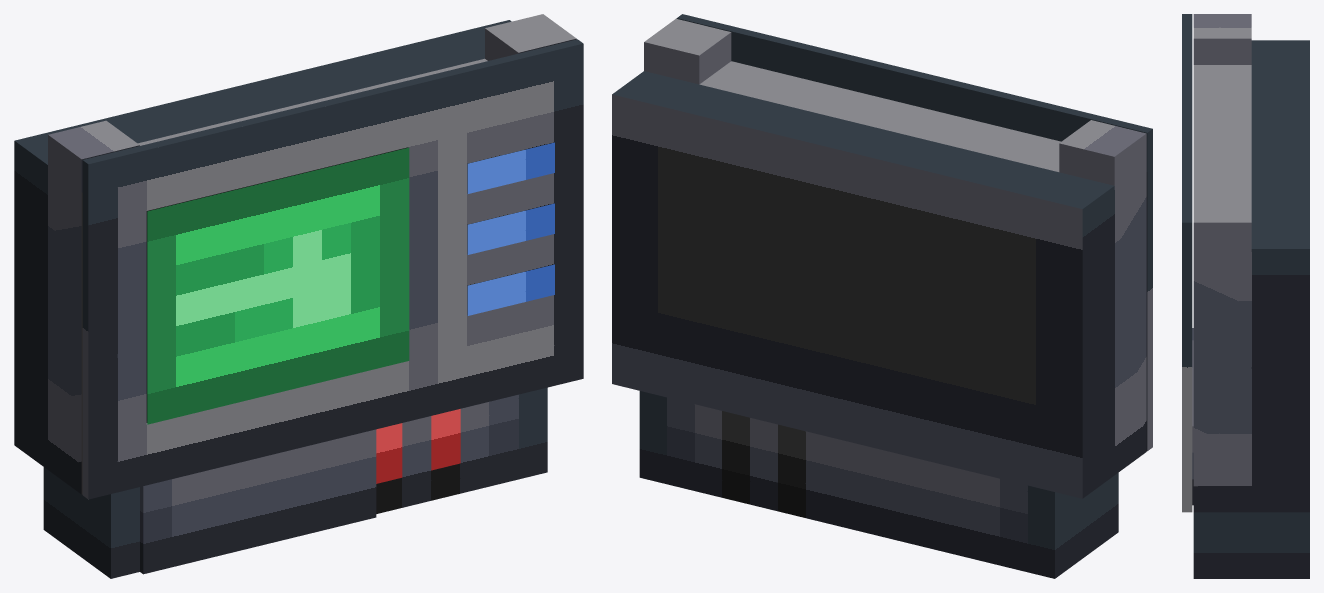
The model's file is apc_charged.glb.
3 views of the same model, side by side, from view 1: azimuth 30°, elevation 25°; view 2: azimuth 150°, elevation 25°; view 3: azimuth 270°, elevation 25° (orthographic). The views are drawn at different scales.
Parts seen in each view (by area): view 1: Main_Cover, Charge_Overlay, Lined_Enclosure, Wiring_Cover, Lower_Control_Housing, Lock_Overlay, Environment_Overlay, Equipment_Overlay, Lighting_Overlay, Display_Glass; view 2: Lined_Enclosure, Lower_Control_Housing, Main_Cover; view 3: Lined_Enclosure, Lower_Control_Housing, Main_Cover, Wiring_Cover.
Part boxes in pixels (left/top/right/bottom): Main_Cover: left=82, top=39, right=583, bottom=499; Charge_Overlay: left=147, top=147, right=409, bottom=424; Lined_Enclosure: left=14, top=14, right=576, bottom=494; Wiring_Cover: left=140, top=429, right=376, bottom=574; Lower_Control_Housing: left=43, top=387, right=547, bottom=578; Lock_Overlay: left=376, top=409, right=460, bottom=483; Environment_Overlay: left=467, top=264, right=554, bottom=315; Equipment_Overlay: left=467, top=142, right=554, bottom=193; Lighting_Overlay: left=467, top=203, right=554, bottom=254; Display_Glass: left=146, top=147, right=406, bottom=422; Lined_Enclosure: left=612, top=18, right=1146, bottom=498; Lower_Control_Housing: left=639, top=391, right=1118, bottom=578; Main_Cover: left=676, top=14, right=1152, bottom=451; Lined_Enclosure: left=1193, top=14, right=1309, bottom=512; Lower_Control_Housing: left=1193, top=512, right=1309, bottom=578; Main_Cover: left=1182, top=14, right=1192, bottom=512; Wiring_Cover: left=1192, top=328, right=1193, bottom=505.
Size of the model in its own units: 0.4781 by 0.3938 by 0.1246.
3 materials, 3 textured.
